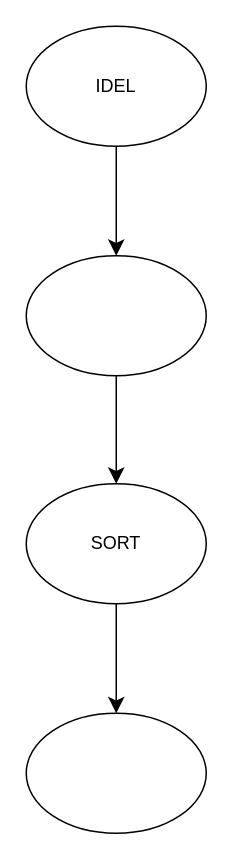
The diagram is 233 pixels wide and 860 high, and some of its shapes have lost their labels. The centre of each missing label's shape, as x and y in pixels:
CHECK_INSIDE: the point at 115,772
DATA_IN: the point at 115,315
